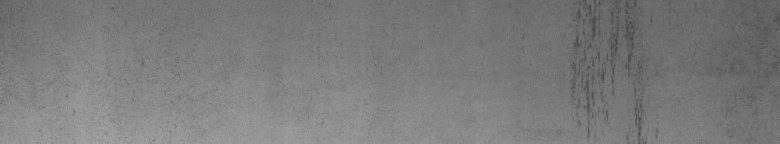ka: (564, 4, 647, 136)
